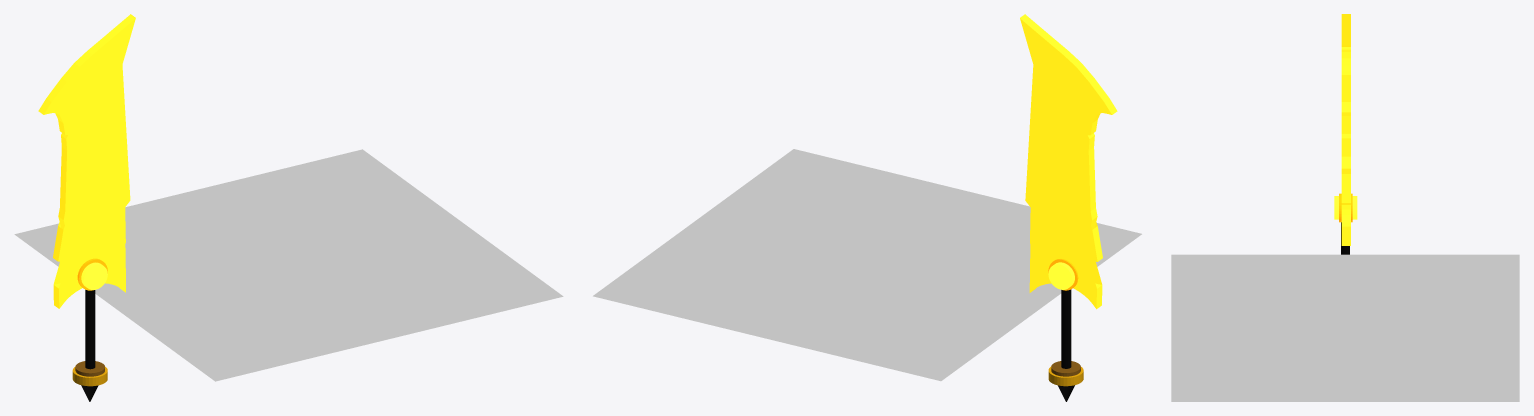
File: SWORD.fbx
The picture shows the model from 3 angles, left to right: view 1: azimuth 30°, elevation 25°; view 2: azimuth 150°, elevation 25°; view 3: azimuth 270°, elevation 25°; orthographic projection. The views are drawn at different scales.
Visible parts, largest first — view 1: Plane, Plane.001; view 2: Plane, Plane.001; view 3: Plane, Plane.001.
Part boxes in pixels (<box>): Plane: <box>14,149,563,381</box>; Plane.001: <box>38,14,135,401</box>; Plane: <box>593,149,1141,381</box>; Plane.001: <box>1020,14,1117,401</box>; Plane: <box>1171,254,1519,401</box>; Plane.001: <box>1334,14,1357,254</box>.
Bounding box in the file's own units: 453 × 385 × 374.
